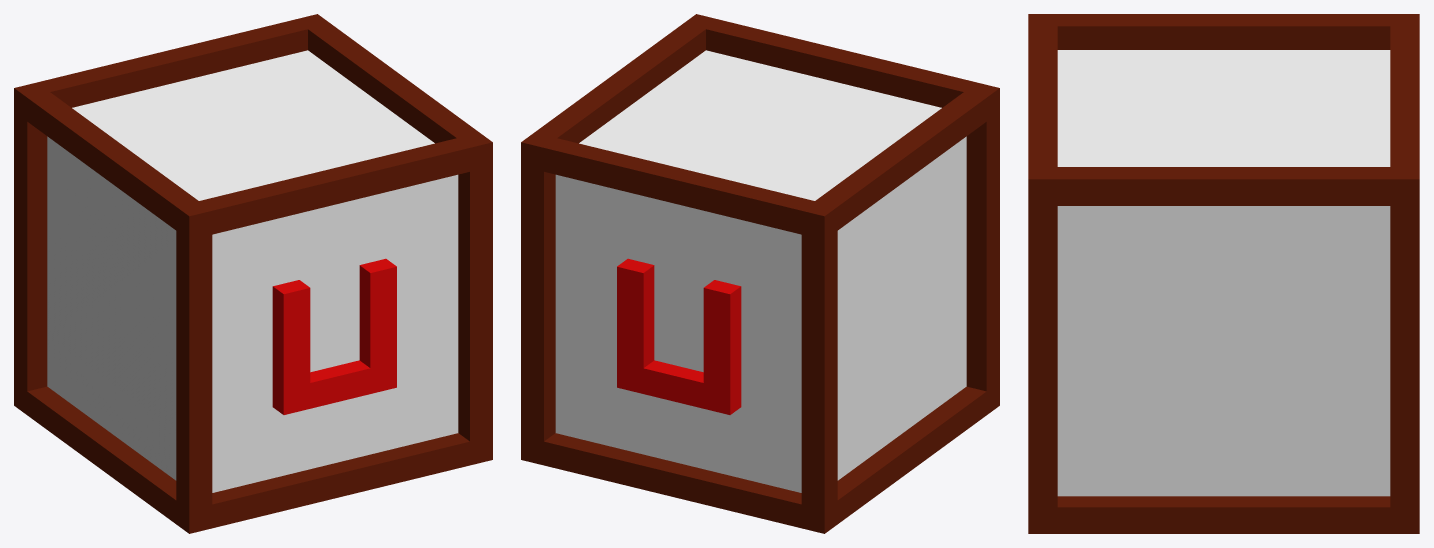
The model's file is MetalCube.fbx.
3 views of the same model, side by side, from view 1: azimuth 30°, elevation 25°; view 2: azimuth 150°, elevation 25°; view 3: azimuth 270°, elevation 25° (orthographic). The views are drawn at different scales.
Visible parts, largest first — view 1: MetalCube; view 2: MetalCube; view 3: MetalCube.
Boxes of the visible parts, x1,y1,x2,y2 form: MetalCube: (14,14,492,533); MetalCube: (521,14,999,533); MetalCube: (1028,14,1419,533).
Bounding box in the file's own units: 100 × 100 × 100.
